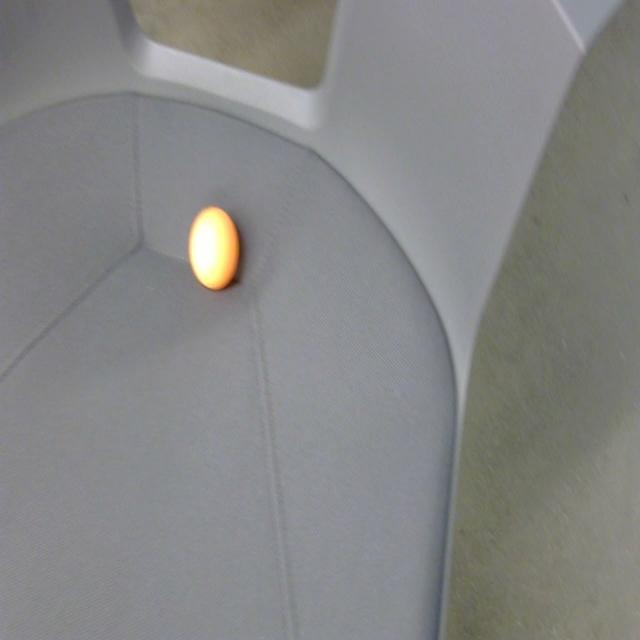ball: (189, 202, 240, 296)
